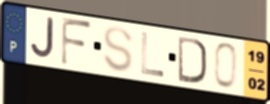0: (212, 40, 242, 91)
D: (176, 34, 208, 86)
F: (59, 15, 95, 68)
J: (28, 15, 56, 61)
L: (140, 31, 166, 80)
S: (101, 25, 135, 74)
